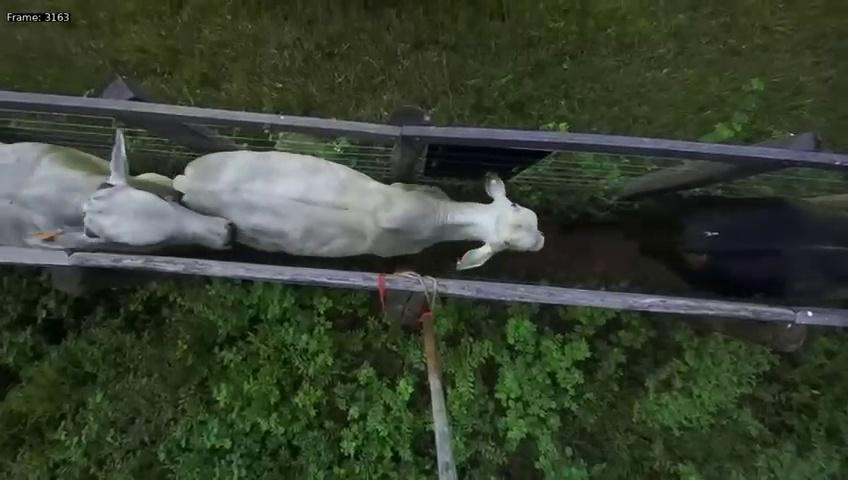cattle: (170, 140, 547, 273), (0, 123, 239, 260)
